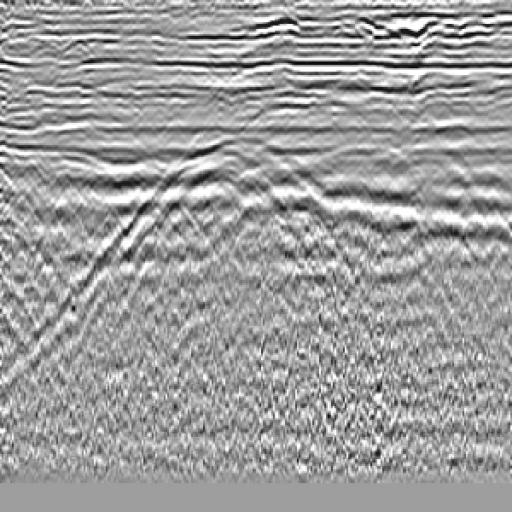non-metallic: (73, 117, 381, 360)
